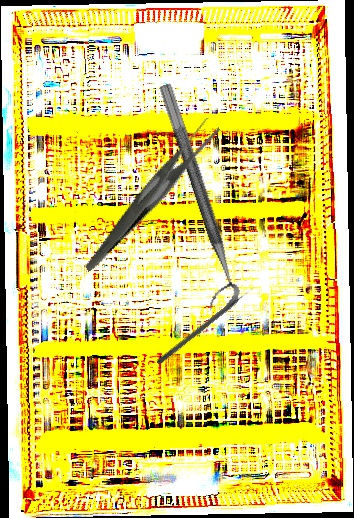Dressing Forceps: (51, 115, 249, 272)
Fixation Ring: (139, 82, 245, 316)
Pusher: (155, 284, 258, 367)
